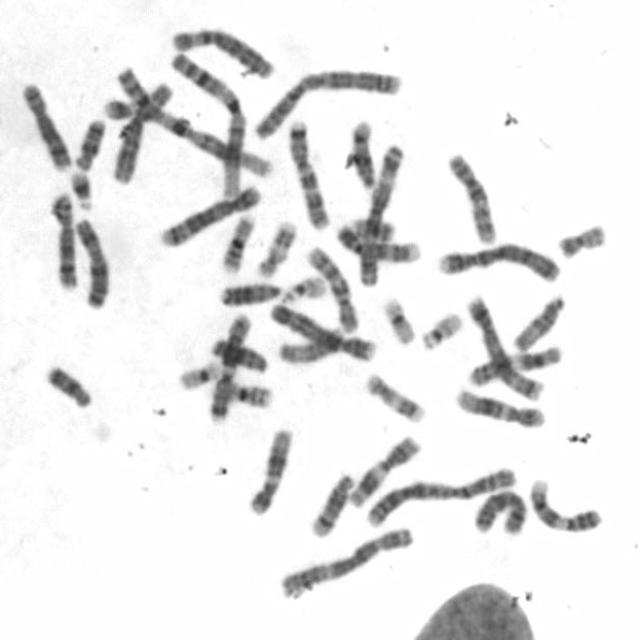A1: (111, 62, 274, 182), (164, 50, 252, 196)
A2: (248, 64, 404, 142), (362, 462, 520, 528)
A3: (276, 522, 417, 600), (354, 141, 406, 289)
B4: (267, 300, 377, 363), (432, 238, 562, 284)
B5: (464, 292, 544, 402), (157, 182, 263, 248)
C10: (444, 148, 498, 246), (303, 242, 360, 334)
C11: (344, 432, 422, 510), (464, 342, 564, 388)
C12: (244, 424, 294, 518), (452, 384, 547, 430)
C6: (109, 77, 176, 185), (168, 23, 276, 80)
C7: (283, 115, 331, 232), (204, 308, 253, 421)
C8: (17, 79, 72, 173), (46, 189, 79, 292)
C9: (526, 474, 603, 534), (333, 219, 421, 265)
D13: (209, 335, 271, 376), (216, 277, 286, 307)
D14: (304, 468, 357, 540), (345, 116, 378, 191)
D15: (509, 291, 568, 353), (275, 326, 344, 368)
E16: (217, 209, 258, 274), (225, 378, 274, 409)
E17: (362, 368, 428, 426), (253, 217, 299, 279)
E18: (41, 360, 96, 410), (72, 116, 107, 172)
F19: (380, 292, 418, 347), (175, 356, 223, 392)
F20: (554, 220, 608, 261), (348, 212, 397, 242)
G21: (66, 168, 95, 212), (100, 94, 138, 122)
G22: (416, 308, 464, 351), (279, 273, 328, 303)
X: (71, 215, 112, 310), (468, 484, 528, 538)
